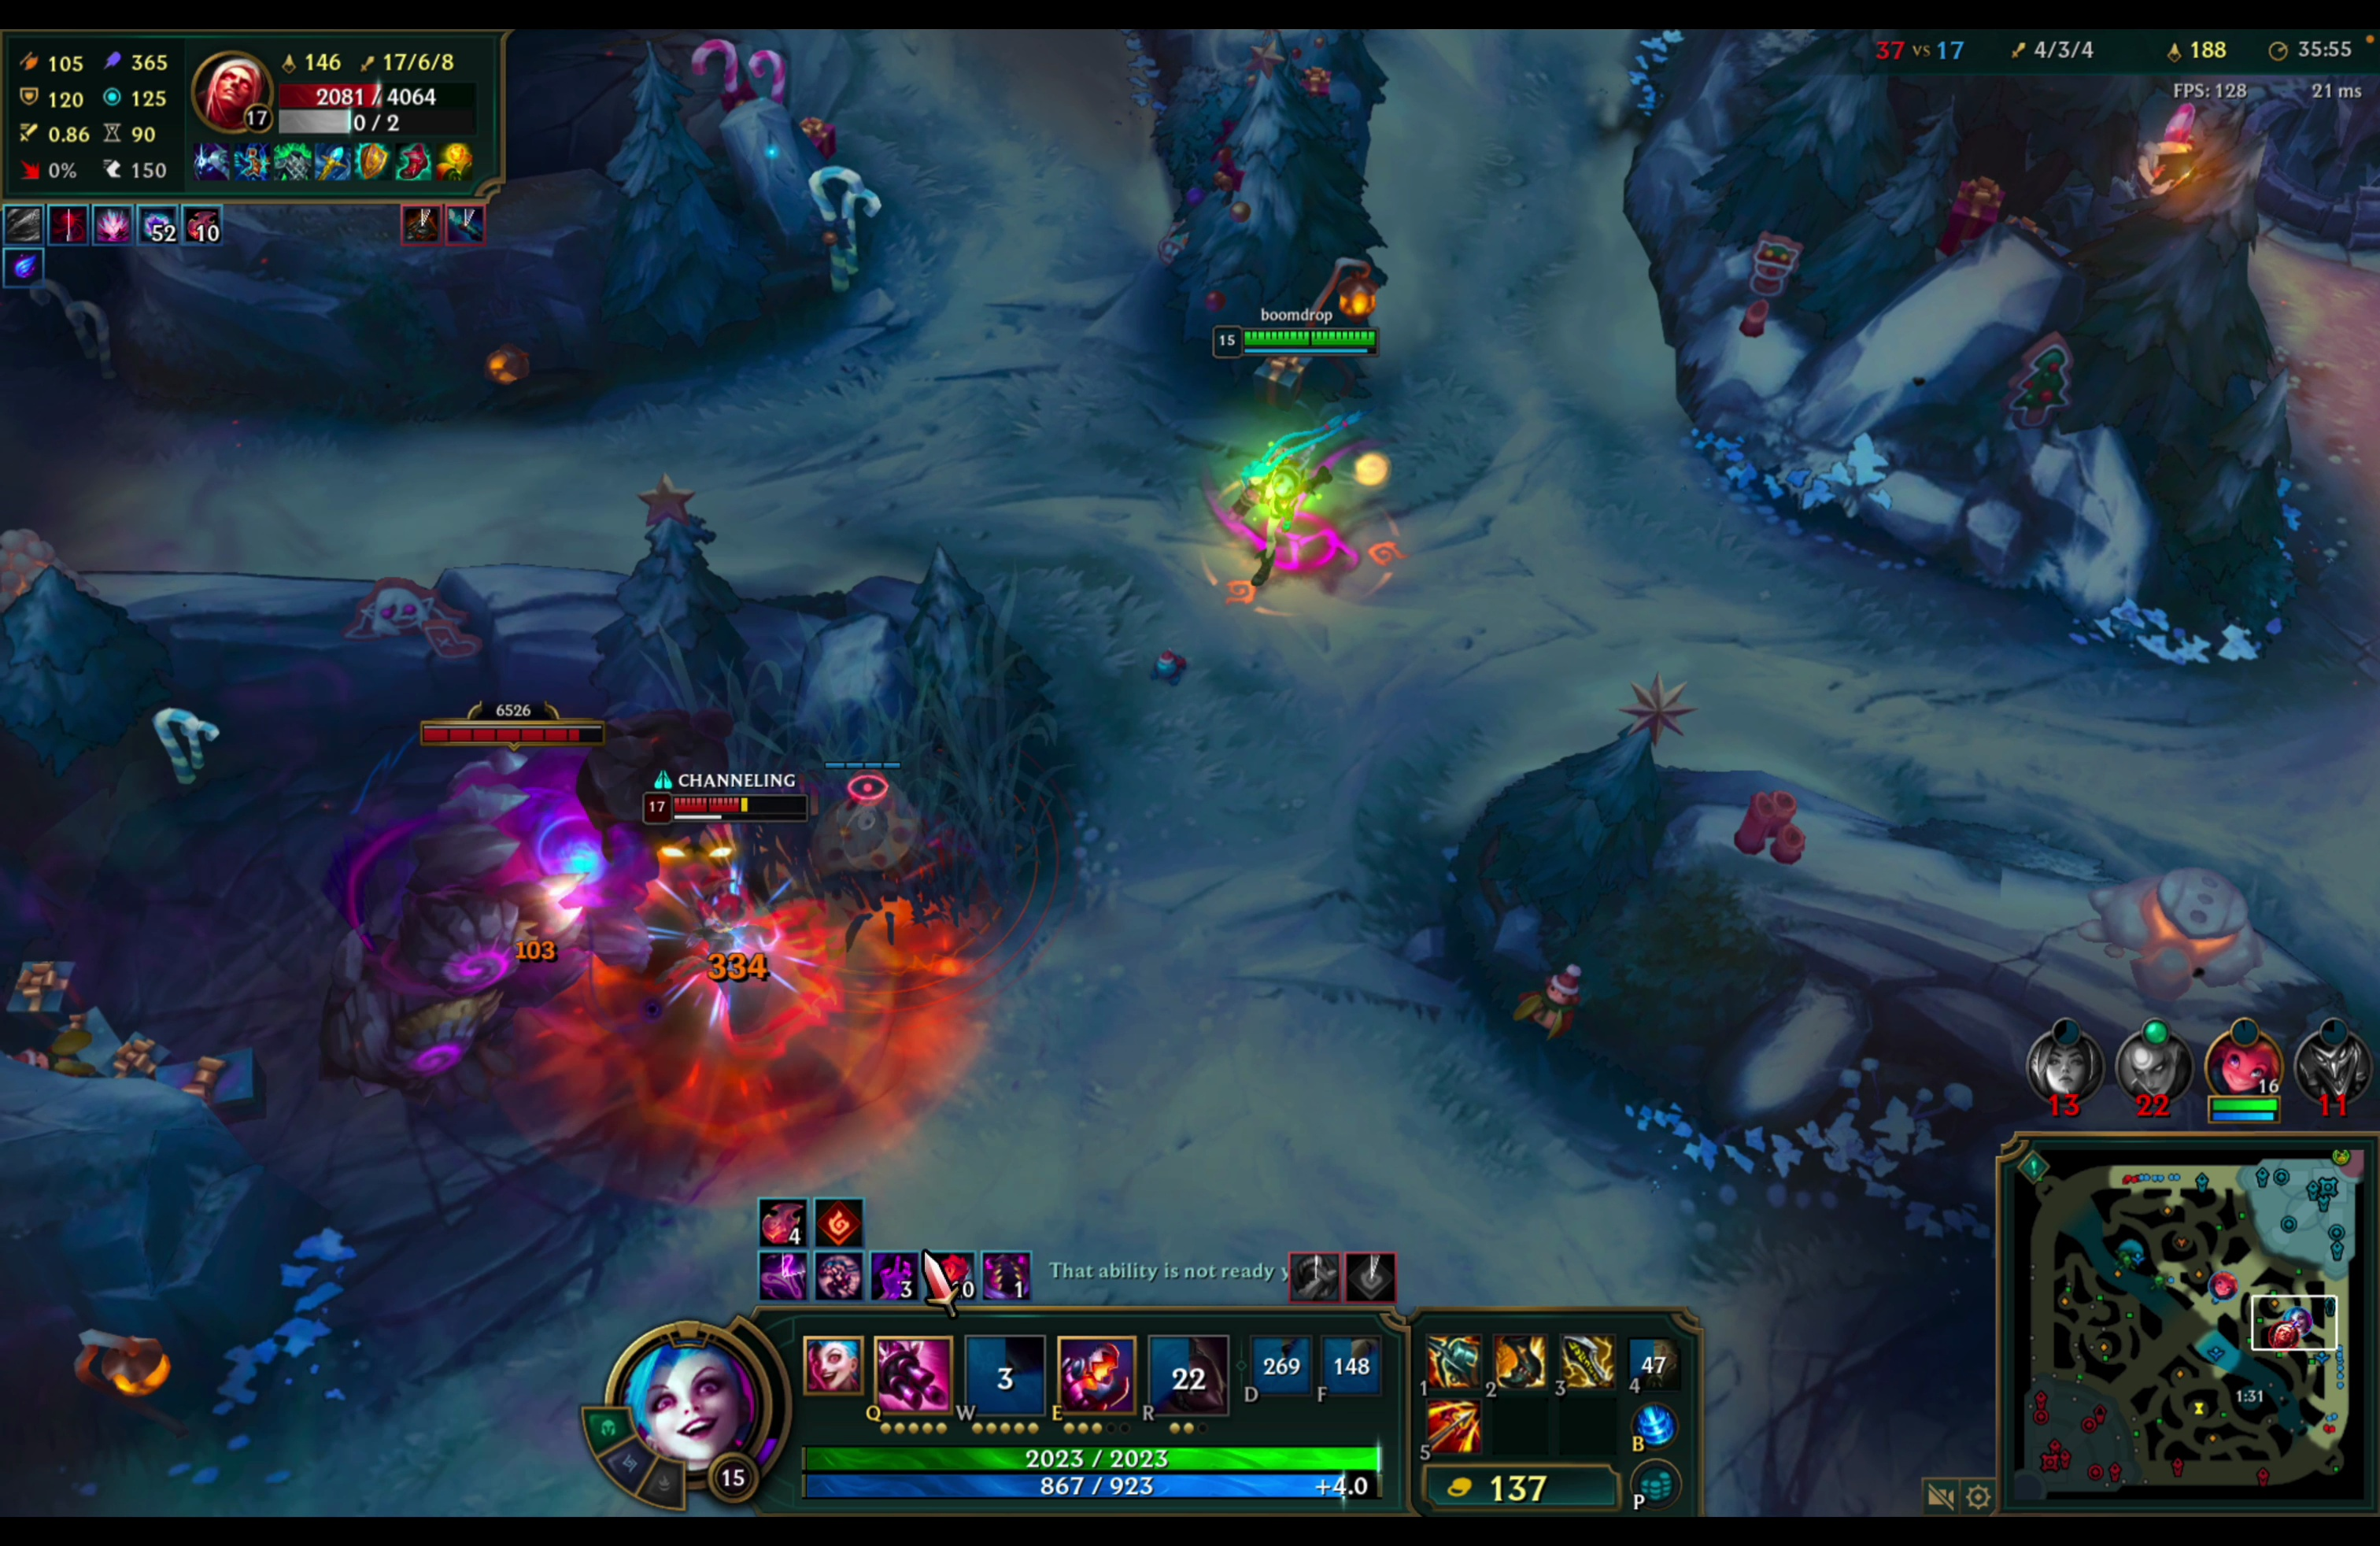JINX_W_IMPACT: (618, 748, 836, 1048)
